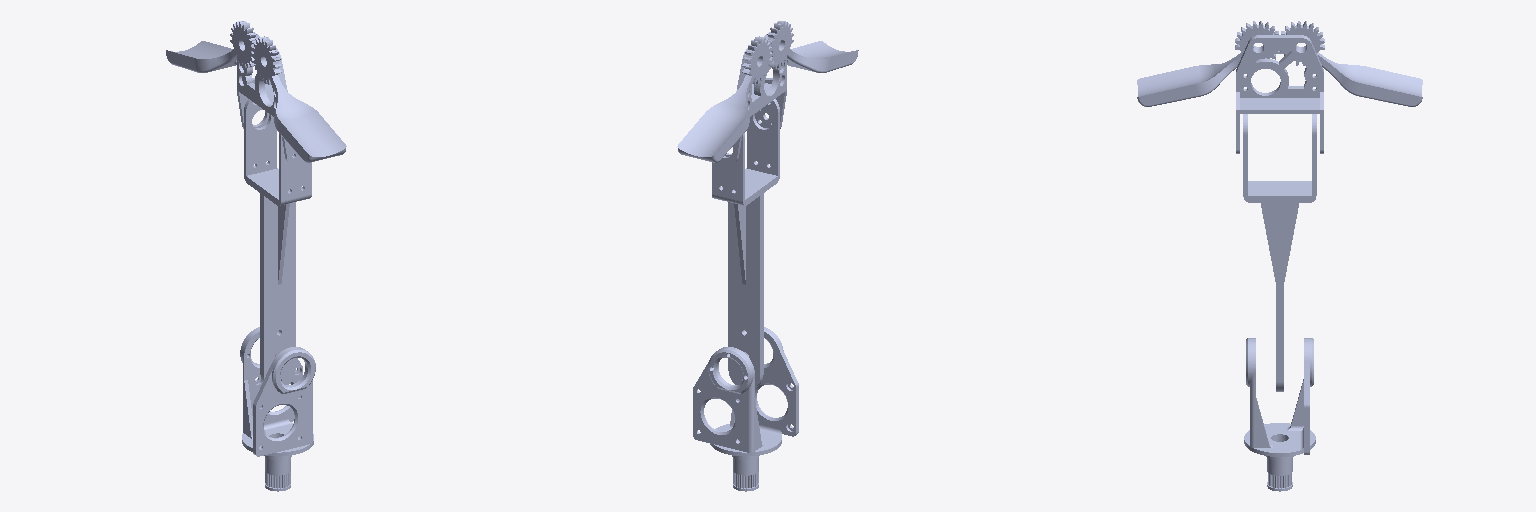
robot.urdf — Robot_Arm:
<?xml version="1.0"?>

<!-- roslaunch urdf_tutorial display.launch model:='$(find robot_arm_control)/urdf/Robot_Arm.urdf' -->

<robot name="Robot_Arm">
    <link name="world" />
    <link name="Arm_Base" />
    <link name="Camera" />

    <link name="arm_link_1">
        <visual>
            <origin xyz="0 0 0" rpy="0.0 0.0 0.0" /> <!-- rpy means roll pitch yaw -->
            <geometry>
                <mesh filename="package://robot_arm_control/meshes/arm_link_1.stl" scale="0.001 0.001 0.001" />
            </geometry>
            <material name="">
                <color rgba="0.79216 0.81961 0.93333 1" />
            </material>
        </visual>
    </link>

    <link name="arm_link_2">
        <visual>
            <origin xyz="0.0 0.0 0.0" rpy="0.0 0.0 1.57" />
            <geometry>
                <mesh filename="package://robot_arm_control/meshes/arm_link_2.stl" scale="0.001 0.001 0.001" />
            </geometry>
            <material name="">
                <color rgba="0.79216 0.81961 0.93333 1" />
            </material>
        </visual>
    </link>

    <link name="arm_link_3">
        <visual>
            <origin xyz="0.0 0.0 0.0" rpy="1.57 0.0 -1.57" />
            <geometry>
                <mesh filename="package://robot_arm_control/meshes/arm_link_3.stl" scale="0.001 0.001 0.001" />
            </geometry>
            <material name="">
                <color rgba="0.79216 0.81961 0.93333 1" />
            </material>
        </visual>
    </link>

    <link name="gripper_left">
        <visual>
            <origin xyz="0.0 0.0 0.0" rpy="0.0 -0.9 1.57" />
            <geometry>
                <mesh filename="package://robot_arm_control/meshes/Gripper.stl" scale="0.001 0.001 0.001" />
            </geometry>
            <material name="">
                <color rgba="0.79216 0.81961 0.93333 1" />
            </material>
        </visual>
    </link>

    <link name="gripper_right">
        <visual>
            <origin xyz="0.0 0.0 0.0" rpy="0.0 0.9 1.57" />
            <geometry>
                <mesh filename="package://robot_arm_control/meshes/Gripper.stl" scale="-0.001 0.001 0.001" />
            </geometry>
            <material name="">
                <color rgba="0.79216 0.81961 0.93333 1" />
            </material>
        </visual>
    </link>

    <link name="end_effector"/>

    <!--######################################################################-->

    <joint name="Arm_Locate" type="fixed">
        <parent link="world"/>
        <child link="Arm_Base"/>
        <origin rpy="0.0 0.0 0.0" xyz="0.0 0.2 0.0"/>
    </joint>

    <joint name="Camera_Locate" type="fixed">
        <parent link="arm_link_1"/>
        <child link="Camera"/>
        <origin rpy="3.14 0.5 0" xyz="0.0 -0.02 0.2"/>
    </joint>

    <joint name="arm_joint_1" type="continuous">
        <axis xyz="0 0 1"/>
        <parent link="Arm_Base"/>
        <child link="arm_link_1"/>
        <origin rpy="0 0 0" xyz="0.0 0.0 0.11"/>
    </joint>

    <joint name="arm_joint_2" type="continuous">
        <axis xyz="0 1 0"/>
        <parent link="arm_link_1"/>
        <child link="arm_link_2"/>
        <origin rpy="0 0 0" xyz="0.0 0.0 0.10"/>
    </joint>

    <joint name="arm_joint_3" type="continuous">
        <axis xyz="0 1 0"/>
        <parent link="arm_link_2"/>
        <child link="arm_link_3"/>
        <origin rpy="0 0 0" xyz="0.0 0.0 0.17"/>
    </joint>

    <joint name="Gripper_left" type="continuous">
        <parent link="arm_link_3"/>
        <child link="gripper_left"/>
        <origin rpy="-1.57 0 0" xyz="-0.0175 0.015 0.064"/>
    </joint>

    <joint name="Gripper_right" type="continuous">
        <parent link="arm_link_3"/>
        <child link="gripper_right"/>
        <origin rpy="1.57 0 0" xyz="-0.0175 -0.015 0.064"/>
    </joint>

    <joint name="arm_end_effector" type="fixed">
        <parent link="arm_link_3"/>
        <child link="end_effector"/>
        <origin rpy="0 0 0" xyz="0.0 0.0 0.123"/>
    </joint>

    <!--######################################################################-->

    <transmission name="arm_joint_trans_1" type="SimpleTransmission">
        <type>transmission_interface/SimpleTransmission</type>
        <actuator name="arm_joint_motor_1">
            <hardwareInterface>hardware_interface/PositionJointInterface</hardwareInterface>
            <mechanicalReduction>1</mechanicalReduction>
        </actuator>
        <joint name="arm_joint_1">
            <hardwareInterface>hardware_interface/PositionJointInterface</hardwareInterface>
        </joint>
    </transmission>

    <transmission name="arm_joint_trans_2" type="SimpleTransmission">
        <type>transmission_interface/SimpleTransmission</type>
        <actuator name="arm_joint_motor_2">
            <hardwareInterface>hardware_interface/PositionJointInterface</hardwareInterface>
            <mechanicalReduction>1</mechanicalReduction>
        </actuator>
        <joint name="arm_joint_2">
            <hardwareInterface>hardware_interface/PositionJointInterface</hardwareInterface>
        </joint>
    </transmission>

    <transmission name="arm_joint_trans_3" type="SimpleTransmission">
        <type>transmission_interface/SimpleTransmission</type>
        <actuator name="arm_joint_motor_3">
            <hardwareInterface>hardware_interface/PositionJointInterface</hardwareInterface>
            <mechanicalReduction>1</mechanicalReduction>
        </actuator>
        <joint name="arm_joint_3">
            <hardwareInterface>hardware_interface/PositionJointInterface</hardwareInterface>
        </joint>
    </transmission>

    <transmission name="gripper_left" type="SimpleTransmission">
        <type>transmission_interface/SimpleTransmission</type>
        <actuator name="arm_gripper_motor_left">
            <hardwareInterface>hardware_interface/PositionJointInterface</hardwareInterface>
            <mechanicalReduction>1</mechanicalReduction>
        </actuator>
        <joint name="Gripper_left">
            <hardwareInterface>hardware_interface/PositionJointInterface</hardwareInterface>
        </joint>
    </transmission>

    <transmission name="gripper_right" type="SimpleTransmission">
        <type>transmission_interface/SimpleTransmission</type>
        <actuator name="arm_gripper_motor_right">
            <hardwareInterface>hardware_interface/PositionJointInterface</hardwareInterface>
            <mechanicalReduction>1</mechanicalReduction>
        </actuator>
        <joint name="Gripper_right">
            <hardwareInterface>hardware_interface/PositionJointInterface</hardwareInterface>
        </joint>
    </transmission>

</robot>

--- Facts derived from the render (not from the file) ---
3 views of the same robot in one strip: view 1: azimuth 30°, elevation 25°; view 2: azimuth 150°, elevation 25°; view 3: azimuth 270°, elevation 25° (orthographic).
Robot: Robot_Arm — 9 links, 8 joints (5 continuous, 3 fixed); root link world; default pose: every joint at zero.
Visible links, largest first — view 1: arm_link_2, arm_link_1, gripper_right, gripper_left, arm_link_3; view 2: arm_link_2, arm_link_1, gripper_left, gripper_right, arm_link_3; view 3: arm_link_3, arm_link_2, arm_link_1, gripper_right, gripper_left.
Boxes of the visible links, x1,y1,x2,y2 form: arm_link_2: [244, 99, 311, 384]; arm_link_1: [240, 327, 315, 491]; gripper_right: [252, 36, 346, 162]; gripper_left: [166, 21, 256, 72]; arm_link_3: [237, 32, 302, 162]; arm_link_2: [712, 99, 779, 387]; arm_link_1: [693, 327, 798, 491]; gripper_left: [677, 36, 771, 162]; gripper_right: [767, 21, 858, 72]; arm_link_3: [721, 32, 786, 162]; arm_link_3: [1236, 35, 1323, 153]; arm_link_2: [1243, 114, 1316, 391]; arm_link_1: [1244, 338, 1315, 491]; gripper_right: [1137, 21, 1279, 106]; gripper_left: [1280, 21, 1422, 106].
Bounding box of the posed robot: 0.0625 × 0.1997 × 0.3494 m (x, y, z).
5 mesh visuals loaded from 4 distinct referenced files (4 binary STL).